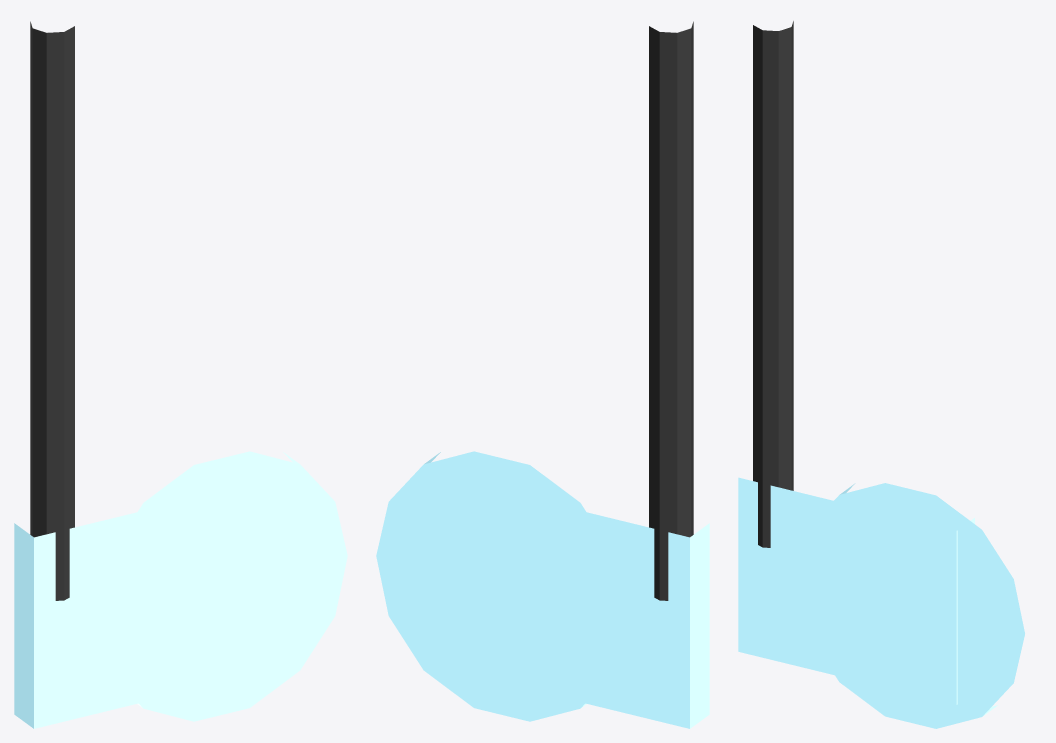
File: timbersaw.glb
The picture shows the model from 3 angles, left to right: view 1: azimuth 30°, elevation 25°; view 2: azimuth 150°, elevation 25°; view 3: azimuth 330°, elevation 25°; orthographic projection. The views are drawn at different scales.
Visible parts, largest first — view 1: timbersaw-blade, timbersaw-haft, timbersaw-saw; view 2: timbersaw-blade, timbersaw-haft, timbersaw-saw; view 3: timbersaw-blade, timbersaw-haft, timbersaw-saw.
Part boxes in pixels (<box>): timbersaw-blade: <box>14,479,274,728</box>; timbersaw-haft: <box>30,21,74,600</box>; timbersaw-saw: <box>137,451,347,721</box>; timbersaw-blade: <box>449,479,709,728</box>; timbersaw-haft: <box>649,21,693,600</box>; timbersaw-saw: <box>376,451,586,721</box>; timbersaw-blade: <box>738,477,974,704</box>; timbersaw-haft: <box>753,21,793,547</box>; timbersaw-saw: <box>834,483,1024,728</box>.
Size of the model in its own units: 0.55 by 1.21 by 0.07.
